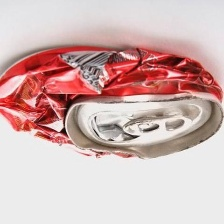can: (0, 41, 224, 166)
